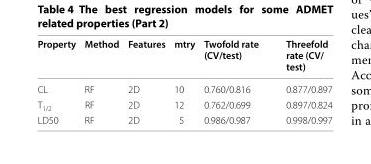table: (36, 36, 331, 125)
table column: (198, 36, 271, 125), (271, 36, 331, 125), (122, 36, 169, 125), (36, 36, 79, 125), (79, 36, 122, 125), (169, 36, 198, 125)
table column header: (36, 36, 331, 77)
table row: (36, 36, 331, 77), (36, 77, 331, 96), (36, 96, 331, 112), (36, 112, 331, 125)
